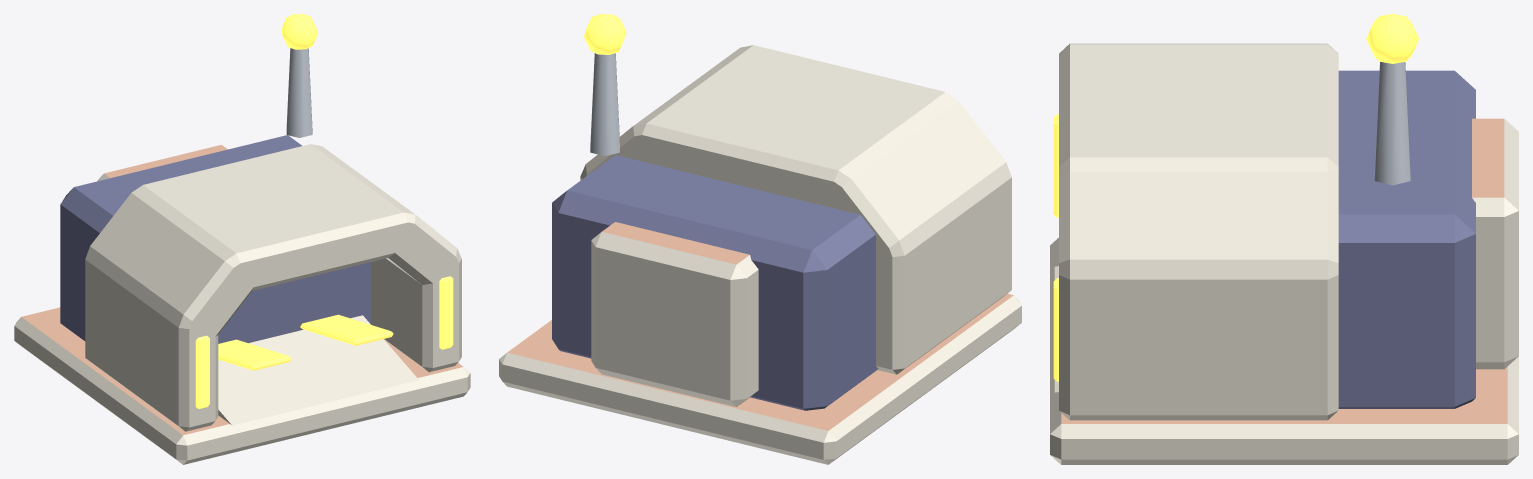
Rendered from R4X_GroundDroneDeployer_LOD1.fbx.
3 renders of one model, left to right at view 1: azimuth 30°, elevation 25°; view 2: azimuth 150°, elevation 25°; view 3: azimuth 270°, elevation 25°, orthographic. The views are drawn at different scales.
Parts seen in each view (by area): view 1: R4X_GroundDroneDeployer_LOD1; view 2: R4X_GroundDroneDeployer_LOD1; view 3: R4X_GroundDroneDeployer_LOD1.
Part boxes in pixels (x1,y1,x2,y2): R4X_GroundDroneDeployer_LOD1: [14, 14, 470, 464]; R4X_GroundDroneDeployer_LOD1: [499, 14, 1021, 464]; R4X_GroundDroneDeployer_LOD1: [1050, 14, 1518, 464].
Bounding box in the file's own units: 0.52 × 0.5145 × 0.52.
